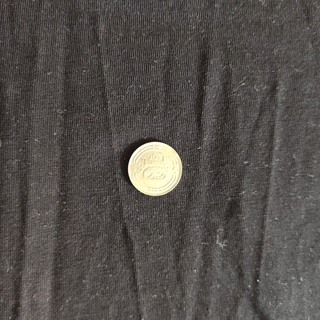10KURUS: (125, 139, 183, 197)
